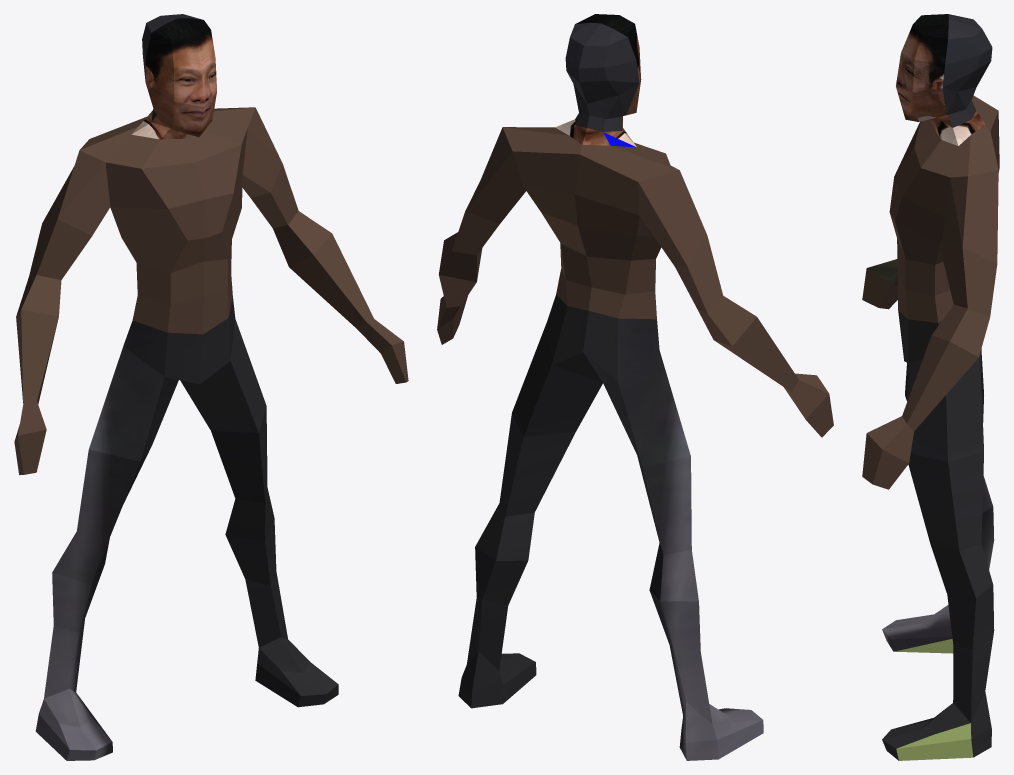
3 views of the same model, side by side, from view 1: azimuth 30°, elevation 25°; view 2: azimuth 150°, elevation 25°; view 3: azimuth 270°, elevation 25° (orthographic). The views are drawn at different scales.
Parts seen in each view (by area): view 1: BASE_Low_Poly_Man_Cube.001; view 2: BASE_Low_Poly_Man_Cube.001; view 3: BASE_Low_Poly_Man_Cube.001.
Part boxes in pixels (box(x1,y1,x2,y2)): BASE_Low_Poly_Man_Cube.001: box(14, 14, 408, 760); BASE_Low_Poly_Man_Cube.001: box(437, 14, 833, 760); BASE_Low_Poly_Man_Cube.001: box(862, 14, 999, 760).
Size of the model in its own units: 317 by 542 by 99.74.
